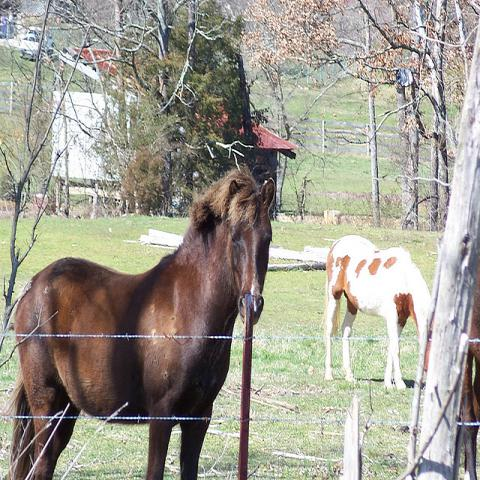car: (19, 34, 40, 44)
